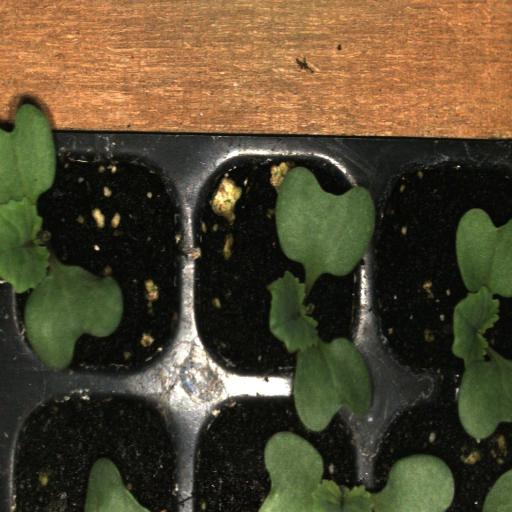seedling: (1, 144, 189, 391), (188, 146, 368, 390), (371, 145, 512, 397)
